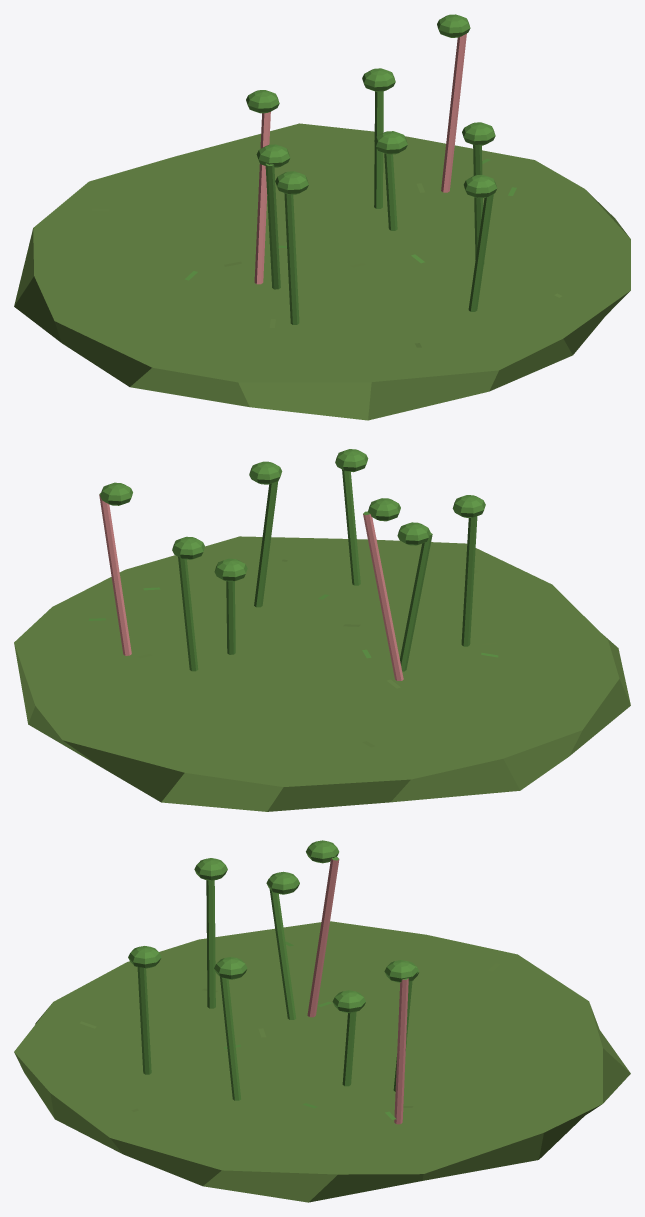
The model's file is flower_patch.fbx.
3 views of the same model, one above another, from view 1: azimuth 30°, elevation 25°; view 2: azimuth 150°, elevation 25°; view 3: azimuth 270°, elevation 25° (orthographic). The views are drawn at different scales.
Parts seen in each view (by area): view 1: flower_patch; view 2: flower_patch; view 3: flower_patch.
Boxes of the visible parts, box(x1,y1,x2,y2) form: flower_patch: box(14, 14, 630, 420); flower_patch: box(14, 449, 630, 811); flower_patch: box(14, 840, 630, 1202).
Size of the model in its own units: 0.727 by 0.264 by 0.7327.
